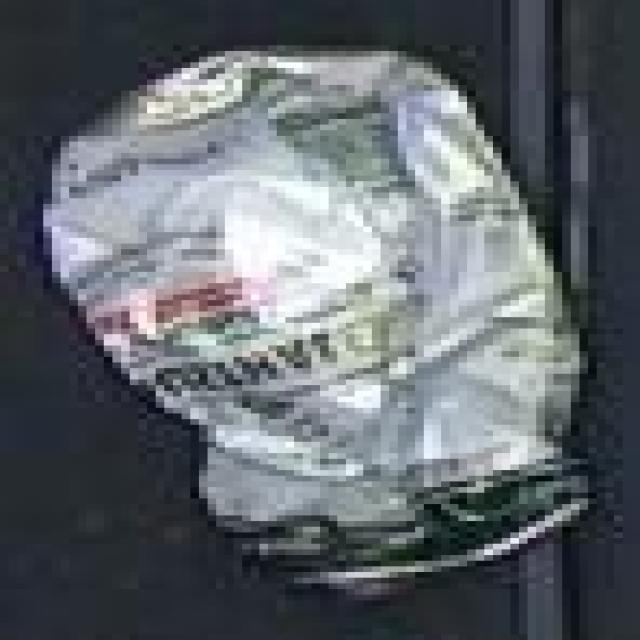litter: (16, 29, 621, 619)
